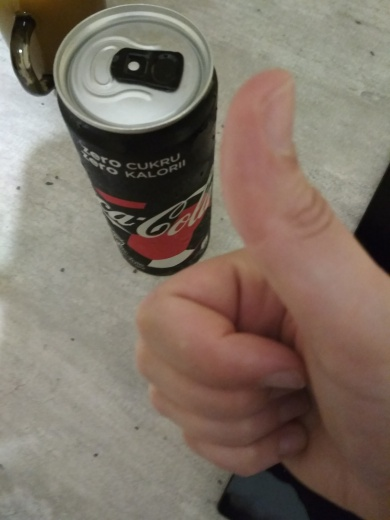colazero: (49, 1, 220, 279)
